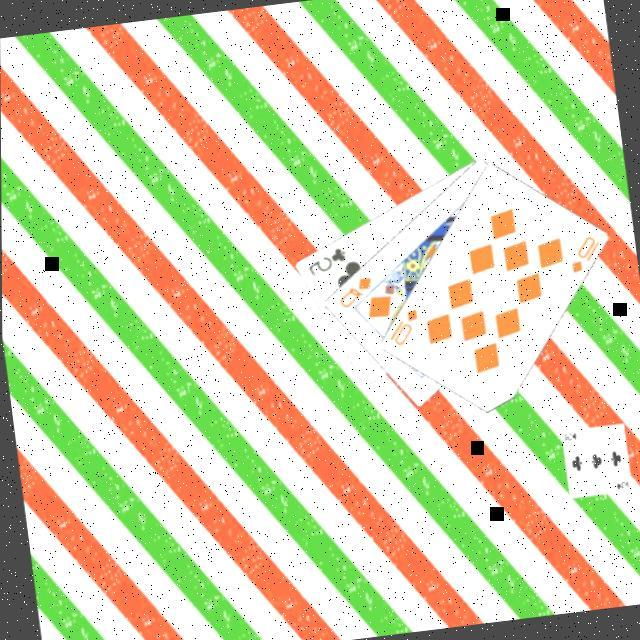10D: (382, 305, 426, 350), (565, 232, 608, 276)
5C: (304, 244, 352, 279)
QD: (334, 273, 378, 312)
